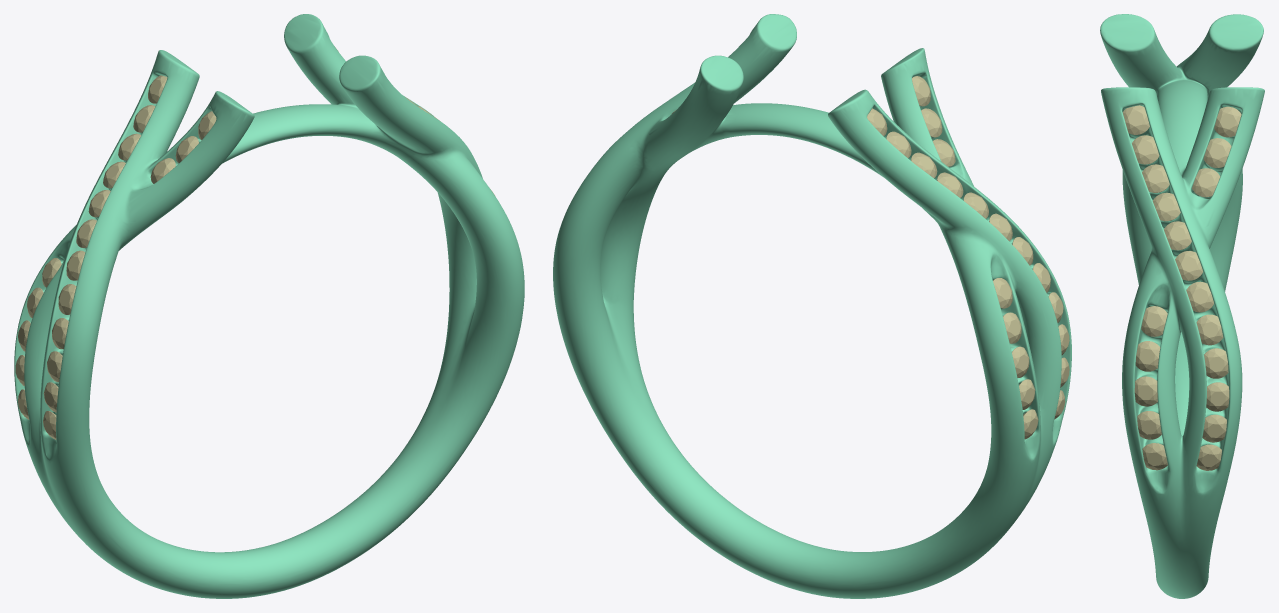
The picture shows the model from 3 angles, left to right: view 1: azimuth 30°, elevation 25°; view 2: azimuth 150°, elevation 25°; view 3: azimuth 270°, elevation 25°; orthographic projection. The views are drawn at different scales.
Visible parts, largest first — view 1: Metal02; view 2: Metal02; view 3: Metal02, Diamond_Gem.012, Diamond_Gem.007, Diamond_Gem.001, Diamond_Gem, Diamond_Gem.013, Diamond_Gem.011, Diamond_Gem.004, Diamond_Gem.006, Diamond_Gem.014, Diamond_Gem.019, Diamond_Gem.018 (+9 smaller).
Part boxes in pixels (x1,y1,x2,y2): Metal02: (14,14,524,598); Metal02: (553,14,1071,598); Metal02: (1100,14,1264,598); Diamond_Gem.012: (1196,314,1223,345); Diamond_Gem.007: (1214,106,1241,137); Diamond_Gem.001: (1135,341,1160,371); Diamond_Gem: (1141,306,1167,336); Diamond_Gem.013: (1186,281,1213,312); Diamond_Gem.011: (1204,348,1228,378); Diamond_Gem.004: (1134,376,1157,406); Diamond_Gem.006: (1203,138,1231,167); Diamond_Gem.014: (1175,251,1202,280); Diamond_Gem.019: (1122,105,1149,134); Diamond_Gem.018: (1132,135,1159,164).
Size of the model in its own units: 21.02 by 22.51 by 6.42.
